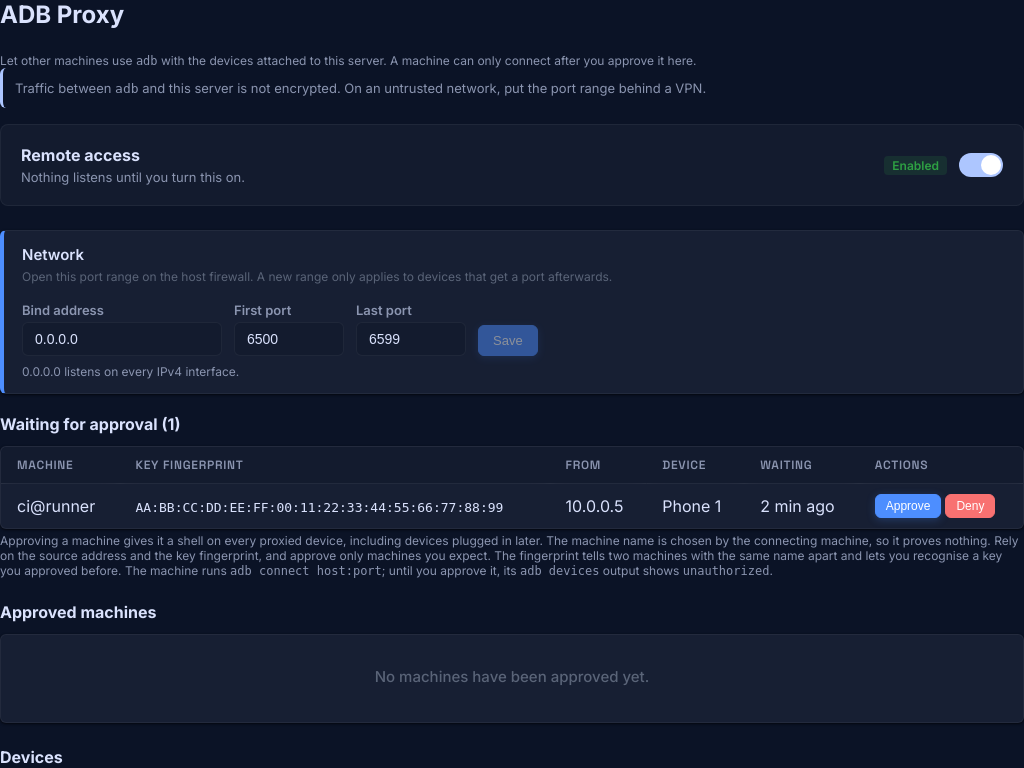
Test case: AdbProxyPage › reloads the list after a refused change
Click the button "Approve": (908,506) [875, 494, 941, 518]
(page scrolled)
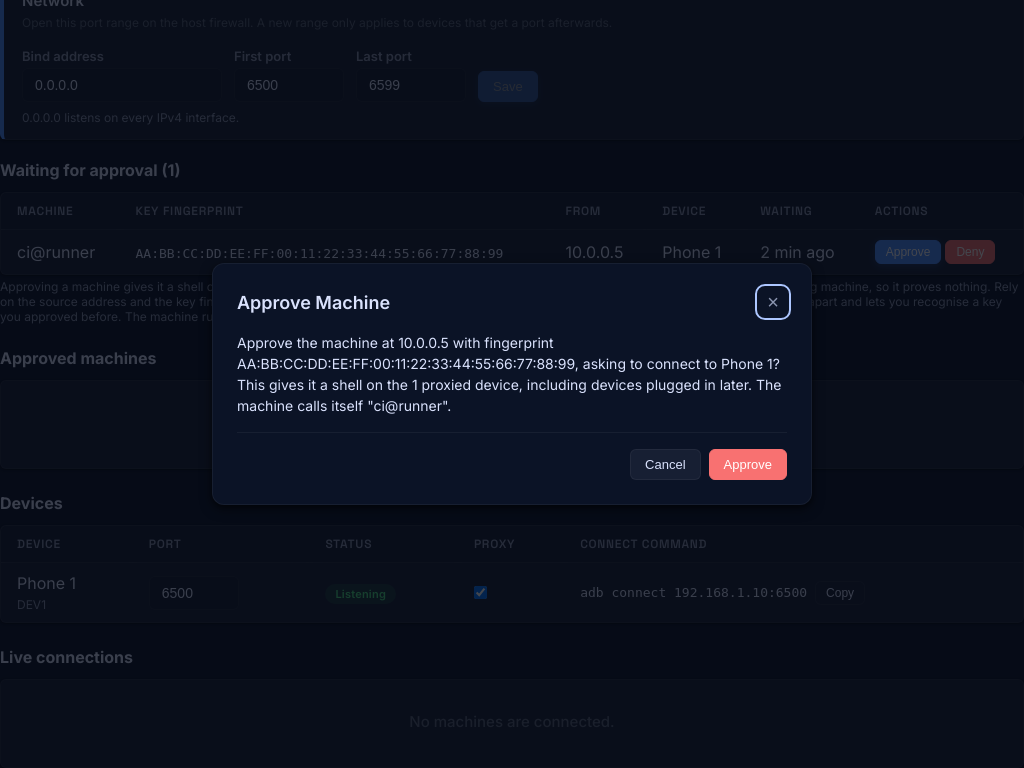
Click the button with test id "confirm-dialog-confirm": (748,464) [709, 449, 787, 480]
(page scrolled)
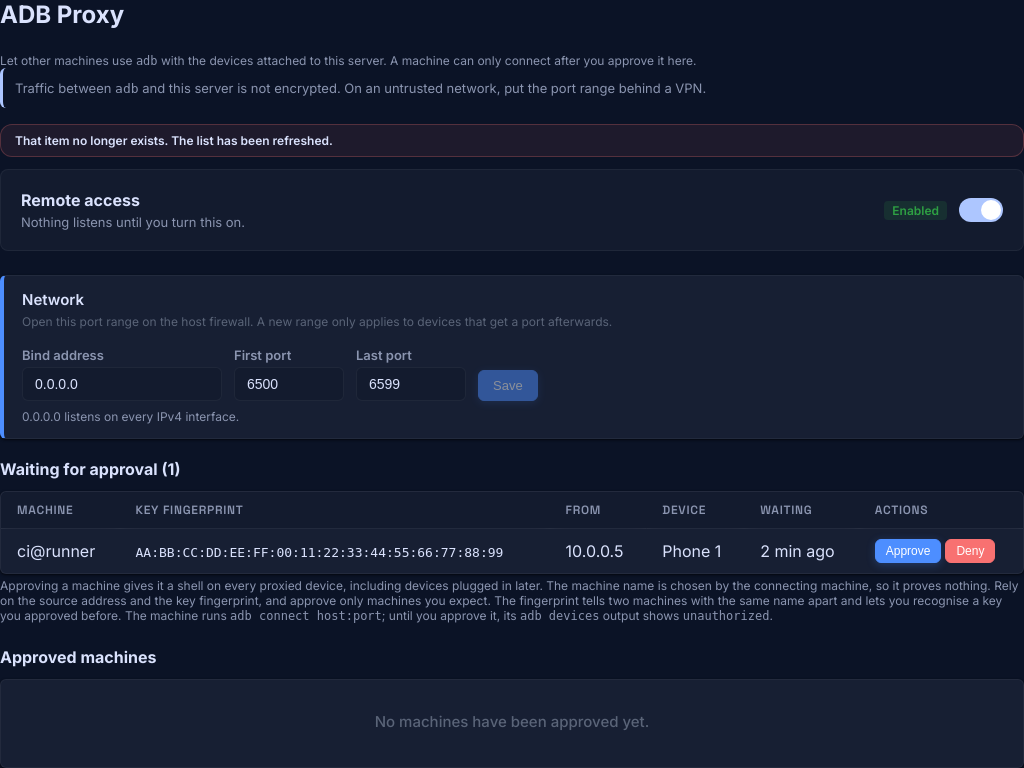
Check: the message shows "That item no longer exists.", box [15, 133, 333, 148]
